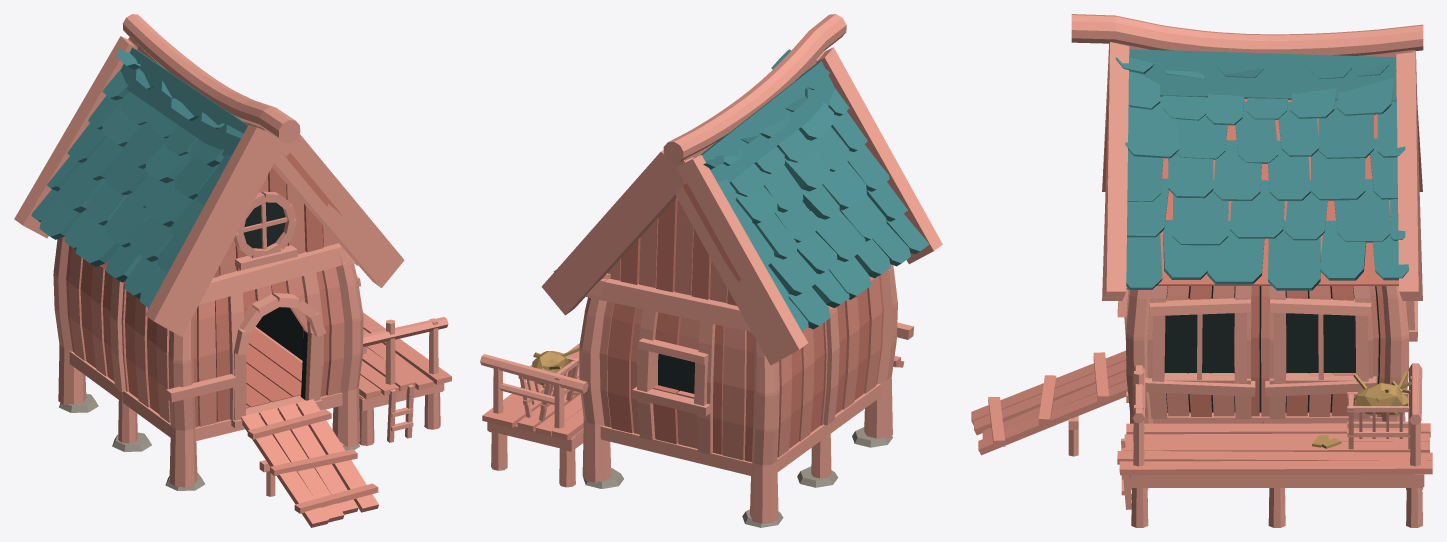
3 views of the same model, side by side, from view 1: azimuth 30°, elevation 25°; view 2: azimuth 150°, elevation 25°; view 3: azimuth 270°, elevation 25° (orthographic). The views are drawn at different scales.
Parts seen in each view (by area): view 1: roof_shingles, roof_timbers, timber_frame, plank_walls, ramp, plank_walls_dark, trim, stilts_sills, platform_frame, platform_deck, floor, interior (+2 smaller); view 2: roof_shingles, roof_timbers, plank_walls, plank_walls_dark, timber_frame, stilts_sills, platform_frame, trim, platform_deck, stone_pads, interior, hay_rack (+2 smaller); view 3: roof_shingles, roof_timbers, platform_deck, trim, timber_frame, platform_frame, interior, ramp, plank_walls, plank_walls_dark, roof_deck, hay_rack (+2 smaller).
Part boxes in pixels (left/top/right/bottom): roof_shingles: left=31, top=47, right=248, bottom=307; roof_timbers: left=14, top=14, right=404, bottom=336; timber_frame: left=53, top=238, right=363, bottom=430; plank_walls: left=68, top=175, right=344, bottom=426; ramp: left=241, top=399, right=378, bottom=527; plank_walls_dark: left=66, top=167, right=329, bottom=427; trim: left=166, top=191, right=366, bottom=427; stilts_sills: left=58, top=327, right=360, bottom=487; platform_frame: left=359, top=317, right=448, bottom=445; platform_deck: left=359, top=312, right=451, bottom=399; floor: left=246, top=328, right=302, bottom=408; interior: left=243, top=202, right=307, bottom=399; roof_shingles: left=554, top=49, right=929, bottom=330; roof_timbers: left=541, top=14, right=942, bottom=365; plank_walls: left=599, top=199, right=882, bottom=460; plank_walls_dark: left=607, top=198, right=883, bottom=461; timber_frame: left=579, top=265, right=897, bottom=465; stilts_sills: left=582, top=377, right=892, bottom=523; platform_frame: left=480, top=354, right=588, bottom=487; trim: left=632, top=322, right=914, bottom=416; platform_deck: left=482, top=343, right=583, bottom=440; stone_pads: left=583, top=427, right=892, bottom=527; interior: left=658, top=353, right=694, bottom=393; hay_rack: left=518, top=356, right=579, bottom=421; roof_shingles: left=1115, top=49, right=1408, bottom=290; roof_timbers: left=1071, top=14, right=1423, bottom=300; platform_deck: left=1117, top=423, right=1432, bottom=475; trim: left=1117, top=287, right=1417, bottom=402; timber_frame: left=1126, top=286, right=1409, bottom=418; platform_frame: left=1121, top=363, right=1424, bottom=527; interior: left=1164, top=286, right=1380, bottom=412; ramp: left=971, top=350, right=1127, bottom=455; plank_walls: left=1165, top=286, right=1378, bottom=416; plank_walls_dark: left=1189, top=286, right=1385, bottom=416; roof_deck: left=1107, top=79, right=1416, bottom=285; hay_rack: left=1347, top=392, right=1410, bottom=449.
Size of the model in its own units: 4.15 by 4.76 by 4.8.
